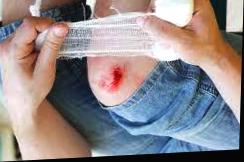Fire: (101, 65, 129, 93)
